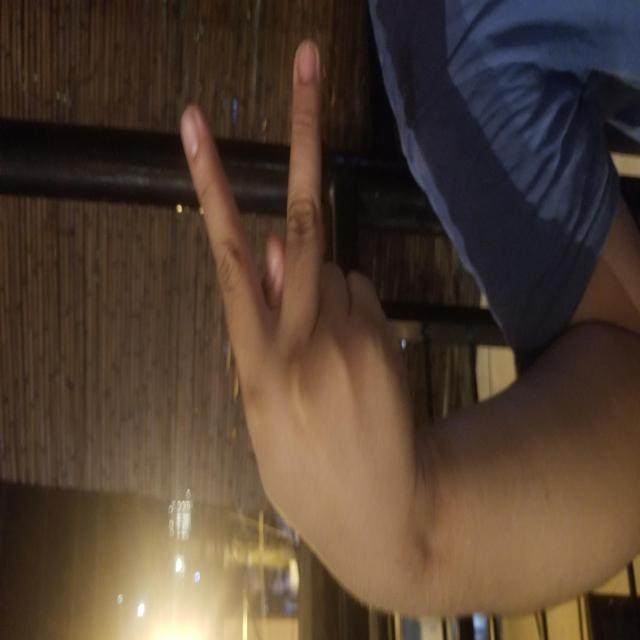K: (39, 181, 601, 416)
